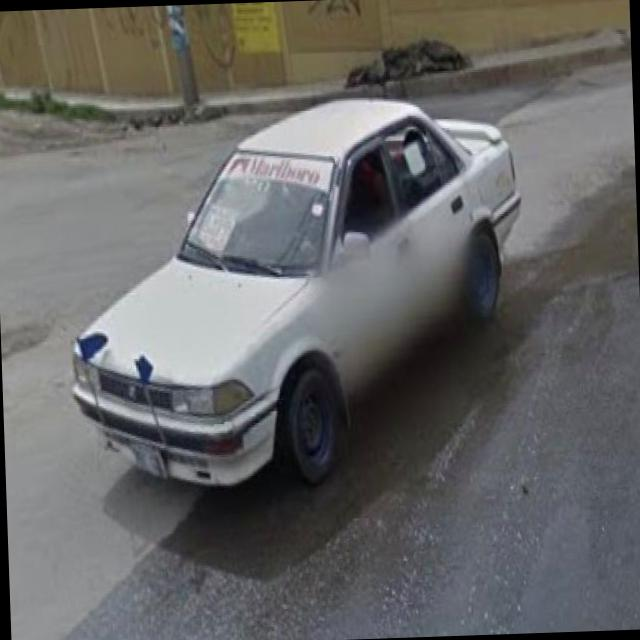car: (67, 94, 534, 499)
